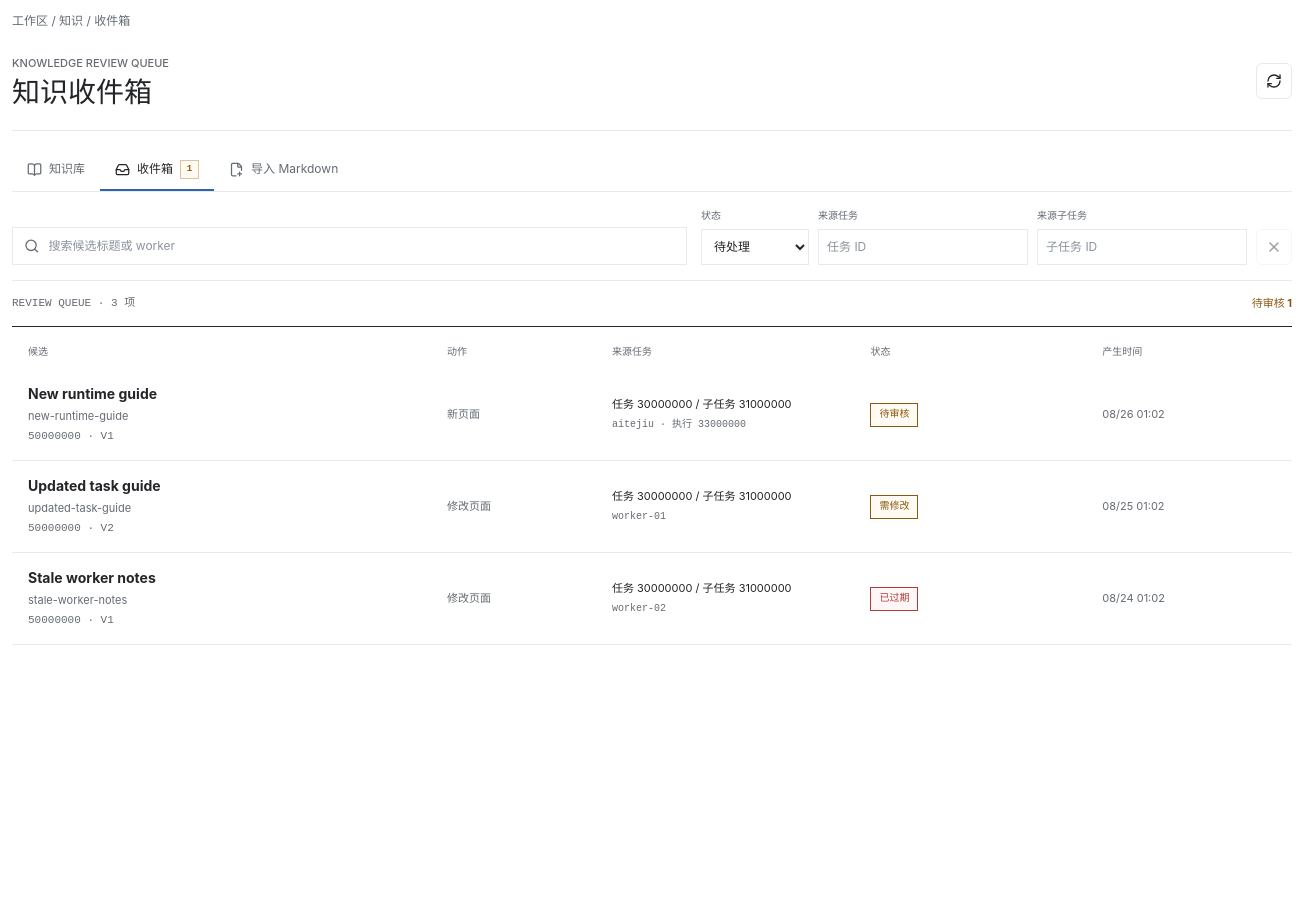
Scenario: KnowledgeInboxPage › supports status and source-task filters without mixing in accepted candidates
Expected: the text "New runtime guide" is shown, x1=28 y1=385 x2=157 y2=402
Select "全部状态" in the dropdown named "候选状态筛选". click: [755, 247]
box: x1=701 y1=229 x2=809 y2=265
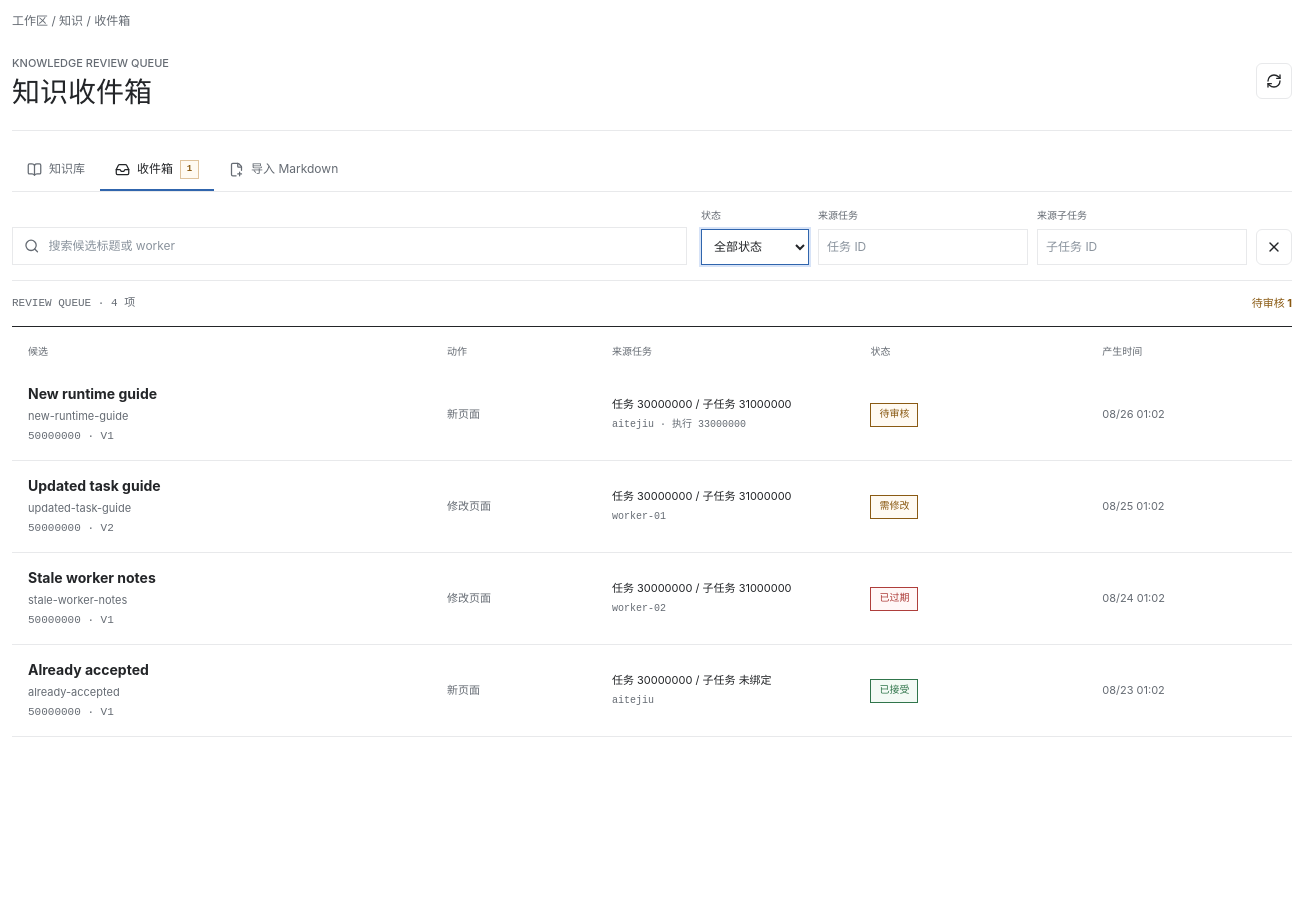
Now the text "Already accepted" is shown, box x1=28 y1=661 x2=149 y2=678
Type "30000000-0000-0000-0000-000000000002" into the field named "来源任务筛选". click: [923, 247]
box: x1=818 y1=229 x2=1028 y2=265
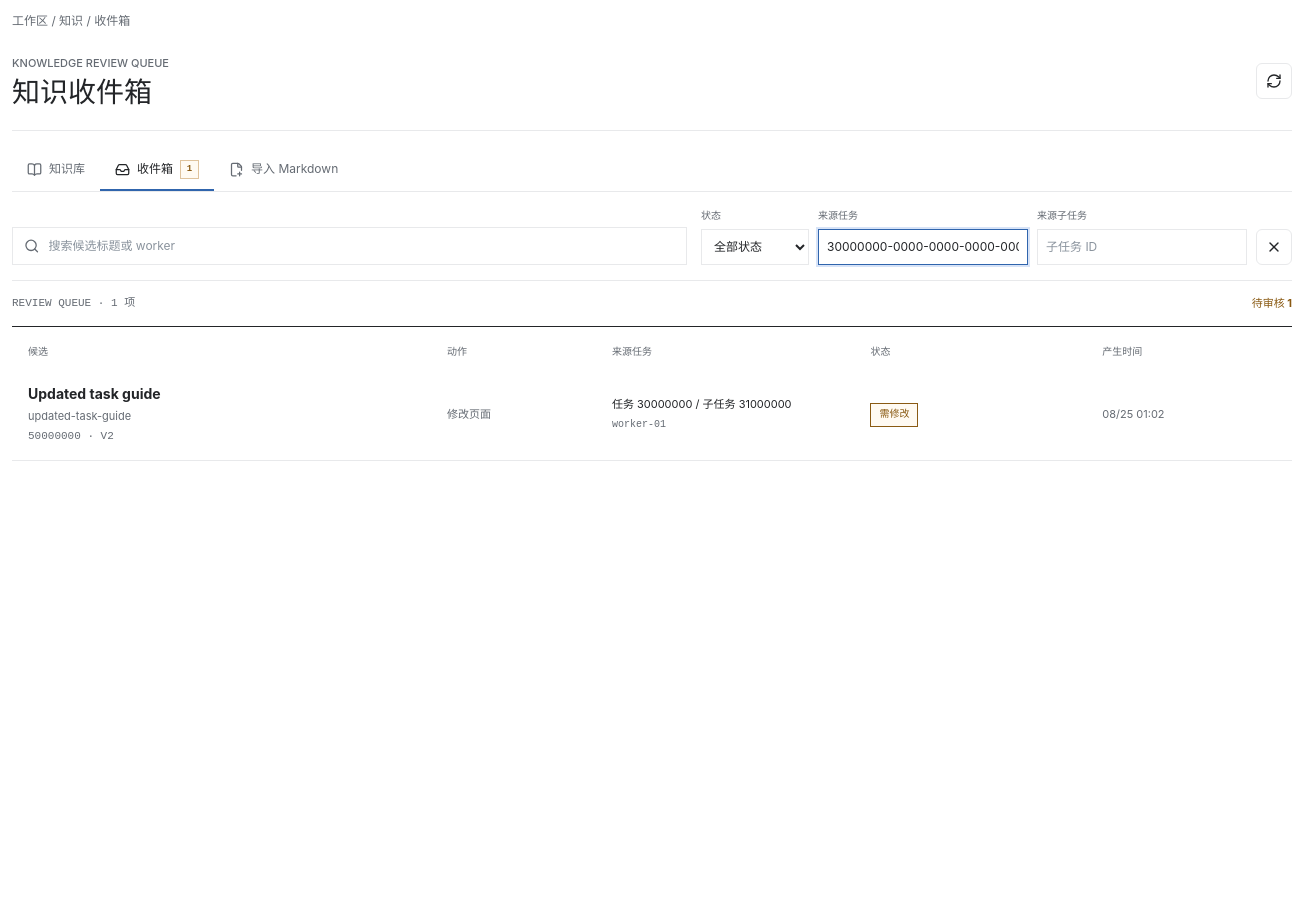
Expected: the text "Updated task guide" is shown, x1=28 y1=385 x2=161 y2=402
Now the link "New runtime guide" is gone
